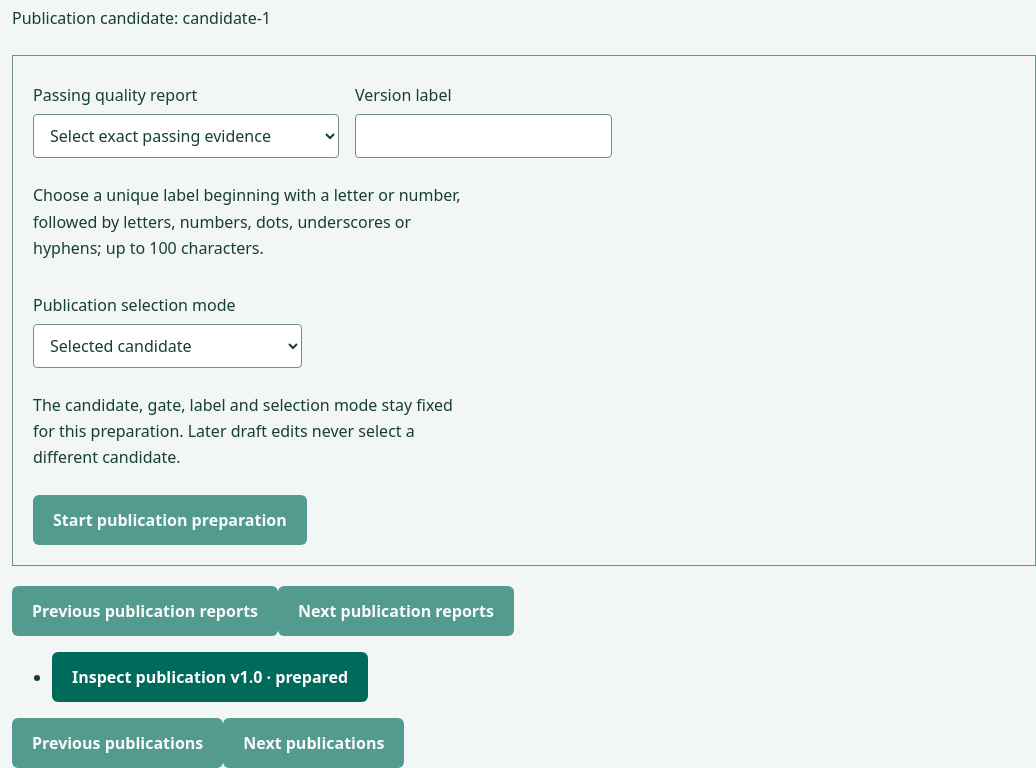
Test: immutable dataset publication › recovers an already committed version after the finalization response is lost
The width and height of the screenshot is (1036, 768).
(page scrolled)
Step 1. Click the button "Inspect publication v1.0 · prepared" → (210, 677), box [52, 652, 368, 702]
(page scrolled)
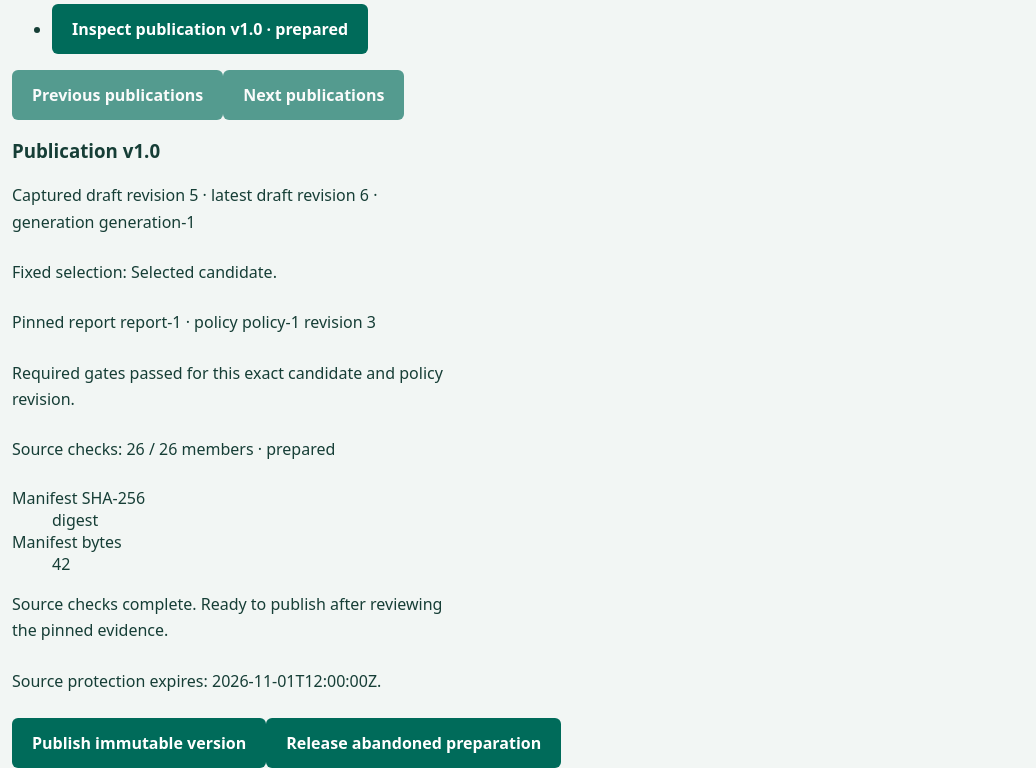
Result: the text "Required gates passed for this exact candidate and policy revision." is shown at [12, 360, 451, 412]
Step 2. Click the button "Publish immutable version" → (139, 743), box [12, 718, 266, 767]
(page scrolled)
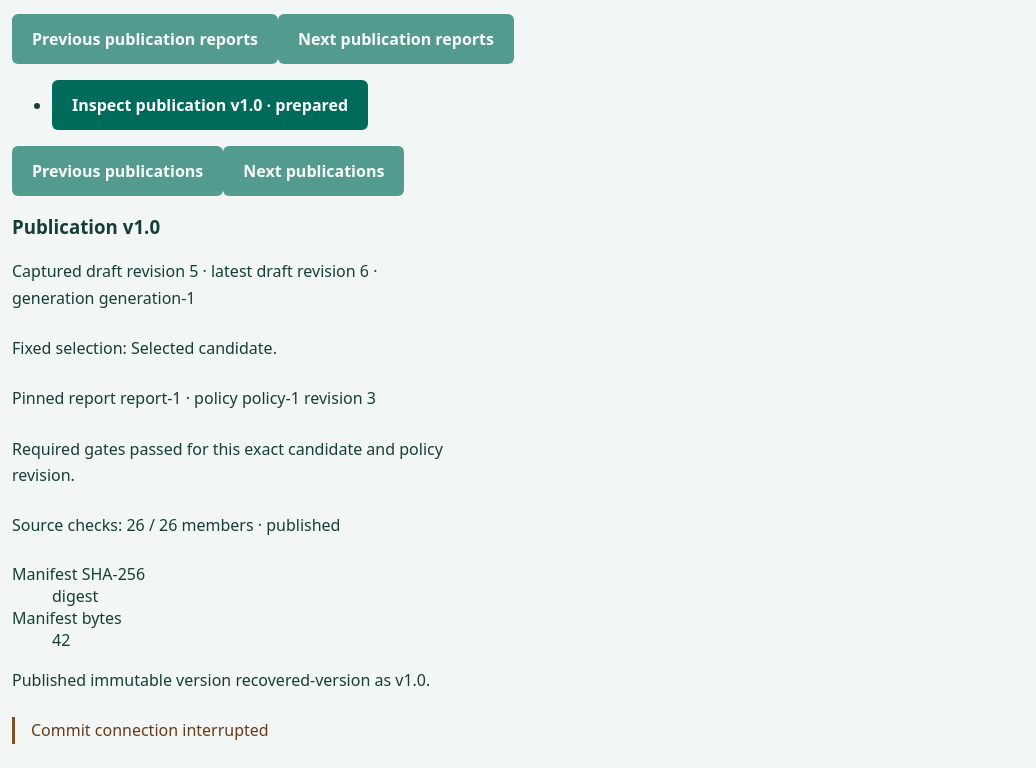
Result: the text "recovered-version" is shown at [235, 669, 370, 691]
Result: the button "Publish immutable version" is gone
